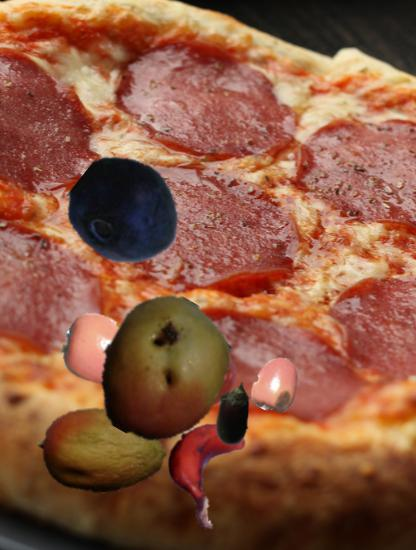Banana: (156, 420, 256, 520)
Blueberry: (70, 155, 183, 268)
Eggplant: (200, 380, 266, 446)
Kaki: (61, 311, 148, 398), (249, 357, 306, 414)
Papaya: (89, 296, 237, 444), (39, 387, 166, 514)
Redcurrant: (169, 333, 241, 405)
